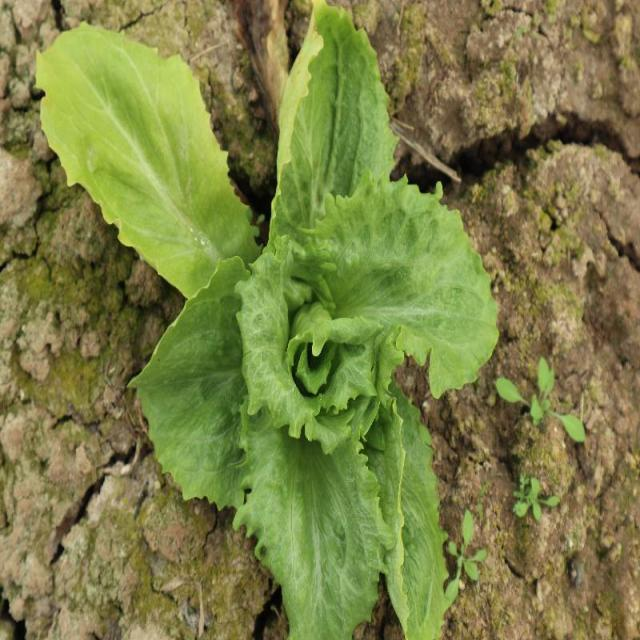crop: (32, 0, 503, 640)
